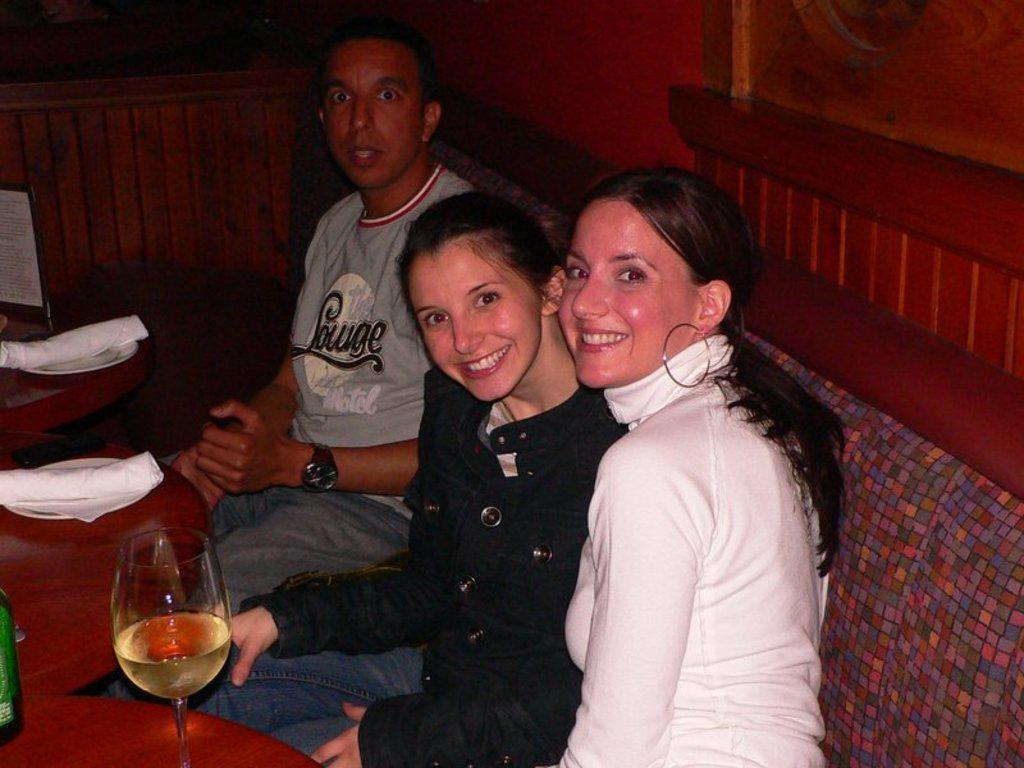glass-wine: (116, 529, 236, 767)
